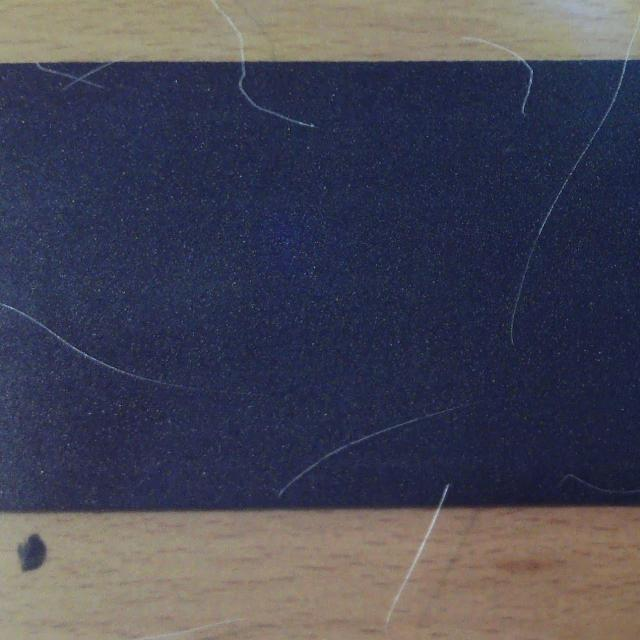defect: (508, 54, 640, 348), (0, 300, 236, 404), (277, 402, 475, 498), (236, 61, 315, 130), (559, 470, 640, 499), (35, 61, 114, 90), (513, 59, 537, 118), (435, 480, 452, 510)
